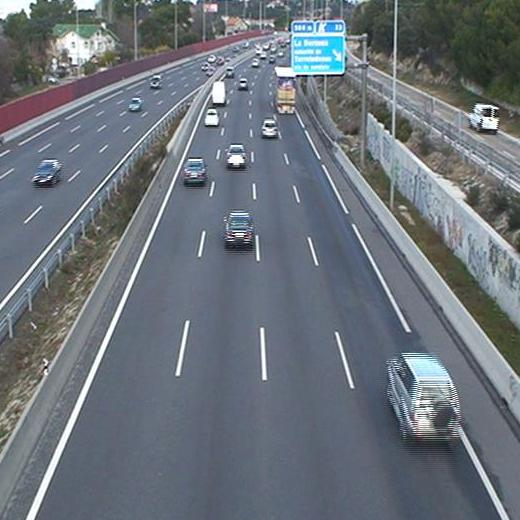car: (390, 353, 459, 438), (225, 211, 253, 245), (183, 158, 205, 183), (226, 143, 245, 165), (262, 119, 278, 137), (205, 109, 219, 126), (237, 78, 249, 89), (224, 67, 234, 77)
truck: (274, 66, 295, 115)
van: (211, 81, 226, 106)
